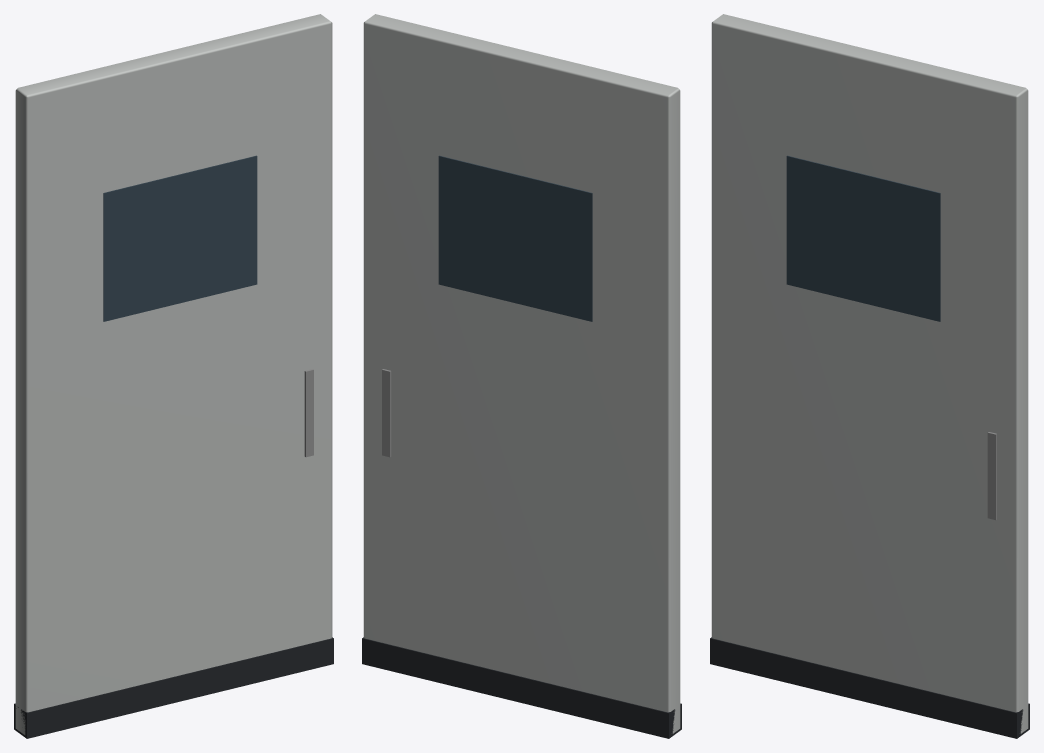
The model's file is Door_Sliding_Lab.fbx.
The picture shows the model from 3 angles, left to right: view 1: azimuth 30°, elevation 25°; view 2: azimuth 150°, elevation 25°; view 3: azimuth 330°, elevation 25°; orthographic projection.
Visible parts, largest first — view 1: Door_Sliding_Lab_LOD0; view 2: Door_Sliding_Lab_LOD0; view 3: Door_Sliding_Lab_LOD0.
Part boxes in pixels (box(x1,y1,x2,y2)): Door_Sliding_Lab_LOD0: box(14, 14, 333, 738); Door_Sliding_Lab_LOD0: box(362, 14, 681, 738); Door_Sliding_Lab_LOD0: box(710, 14, 1029, 738).
Size of what is drawn, in the model's own units: 1.5 by 3 by 0.12.
